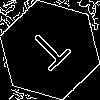T: (25, 25, 79, 79)
